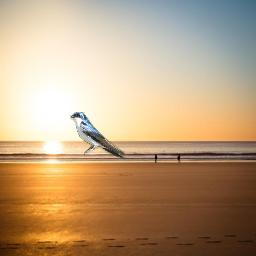Swallow: (70, 112, 125, 158)
